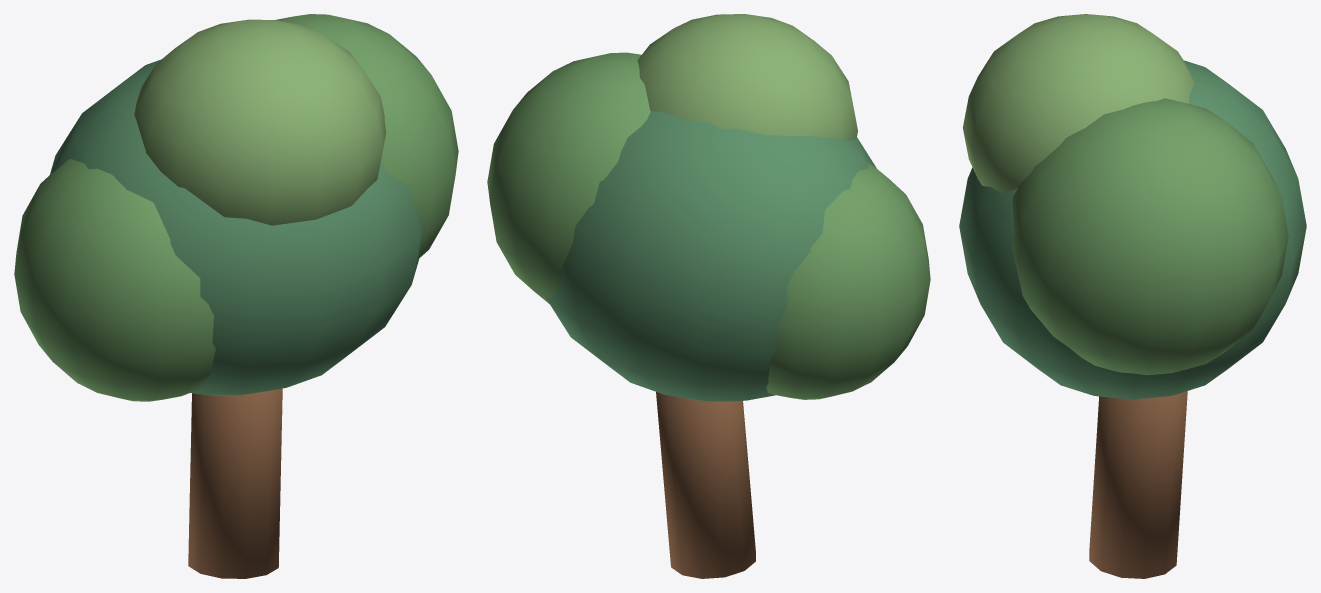
File: tree_round.glb
The picture shows the model from 3 angles, left to right: view 1: azimuth 30°, elevation 25°; view 2: azimuth 150°, elevation 25°; view 3: azimuth 270°, elevation 25°; orthographic projection. The views are drawn at different scales.
Parts seen in each view (by area): view 1: tree_round; view 2: tree_round; view 3: tree_round.
Boxes of the visible parts, x1=… form: tree_round: x1=14, y1=14, x2=458, y2=578; tree_round: x1=487, y1=14, x2=930, y2=578; tree_round: x1=959, y1=14, x2=1306, y2=578.
Bounding box in the file's own units: 1.3 × 1.63 × 0.96.
1 material, 1 textured.
